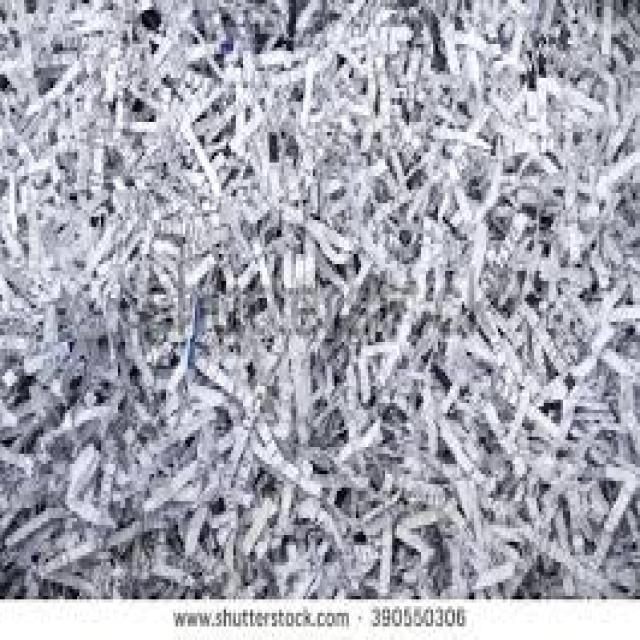paper: (0, 0, 638, 593)
